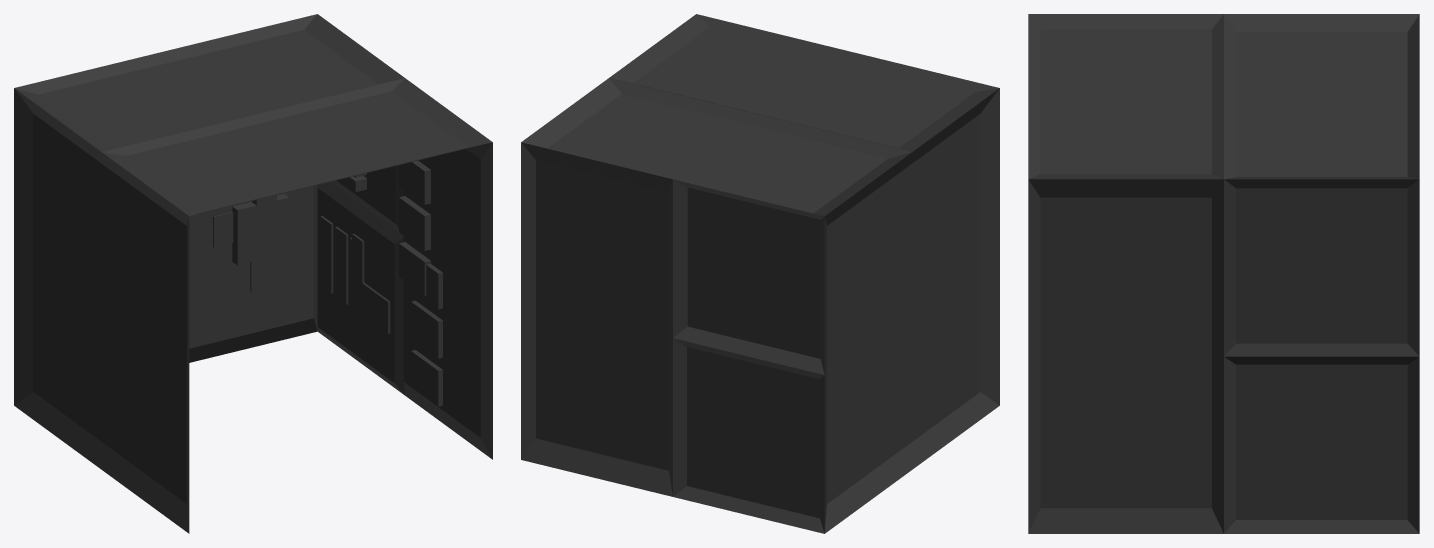
Rendered from tunnel_down_01.obj.
The picture shows the model from 3 angles, left to right: view 1: azimuth 30°, elevation 25°; view 2: azimuth 150°, elevation 25°; view 3: azimuth 270°, elevation 25°; orthographic projection. The views are drawn at different scales.
Parts seen in each view (by area): view 1: tunnel; view 2: tunnel; view 3: tunnel.
Part boxes in pixels (bbox=[...]): tunnel: bbox=[14, 14, 492, 533]; tunnel: bbox=[521, 14, 999, 533]; tunnel: bbox=[1028, 14, 1419, 533].
Size of the model in its own units: 15.56 by 15.56 by 15.56.
1 material, 1 textured.
